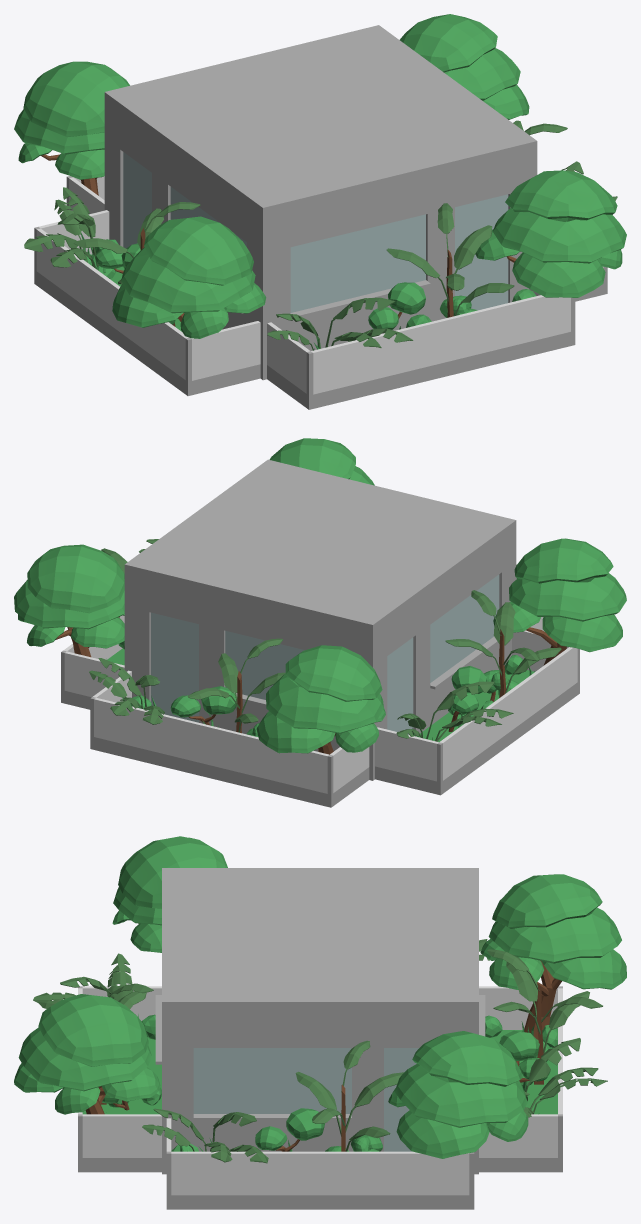
The model's file is MidElement0.fbx.
3 renders of one model, top to bottom at view 1: azimuth 30°, elevation 25°; view 2: azimuth 150°, elevation 25°; view 3: azimuth 270°, elevation 25°, orthographic. The views are drawn at different scales.
Visible parts, largest first — view 1: Tree.027; view 2: Tree.027; view 3: Tree.027.
Boxes of the visible parts, left/top/right/bottom form: Tree.027: left=14, top=14, right=626, bottom=409; Tree.027: left=14, top=438, right=626, bottom=807; Tree.027: left=14, top=836, right=626, bottom=1209.
Bounding box in the file's own units: 193 × 60 × 193.
